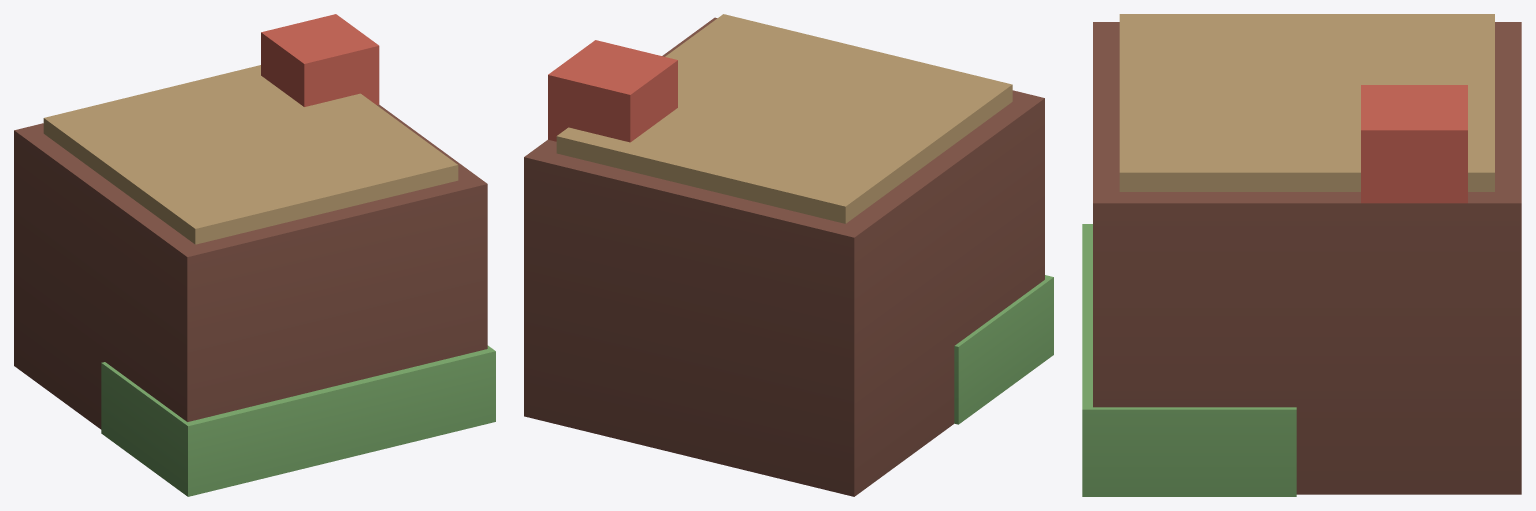
Rendered from stump-mossy.glb.
The picture shows the model from 3 angles, left to right: view 1: azimuth 30°, elevation 25°; view 2: azimuth 150°, elevation 25°; view 3: azimuth 270°, elevation 25°; orthographic projection. The views are drawn at different scales.
Parts seen in each view (by area): view 1: stump-mossy_body; view 2: stump-mossy_body; view 3: stump-mossy_body.
Part boxes in pixels (box(x1,y1,x2,y2)): stump-mossy_body: box(14, 14, 495, 496); stump-mossy_body: box(524, 14, 1053, 496); stump-mossy_body: box(1082, 14, 1521, 496).
Bounding box in the file's own units: 0.82 × 0.75 × 0.82.
